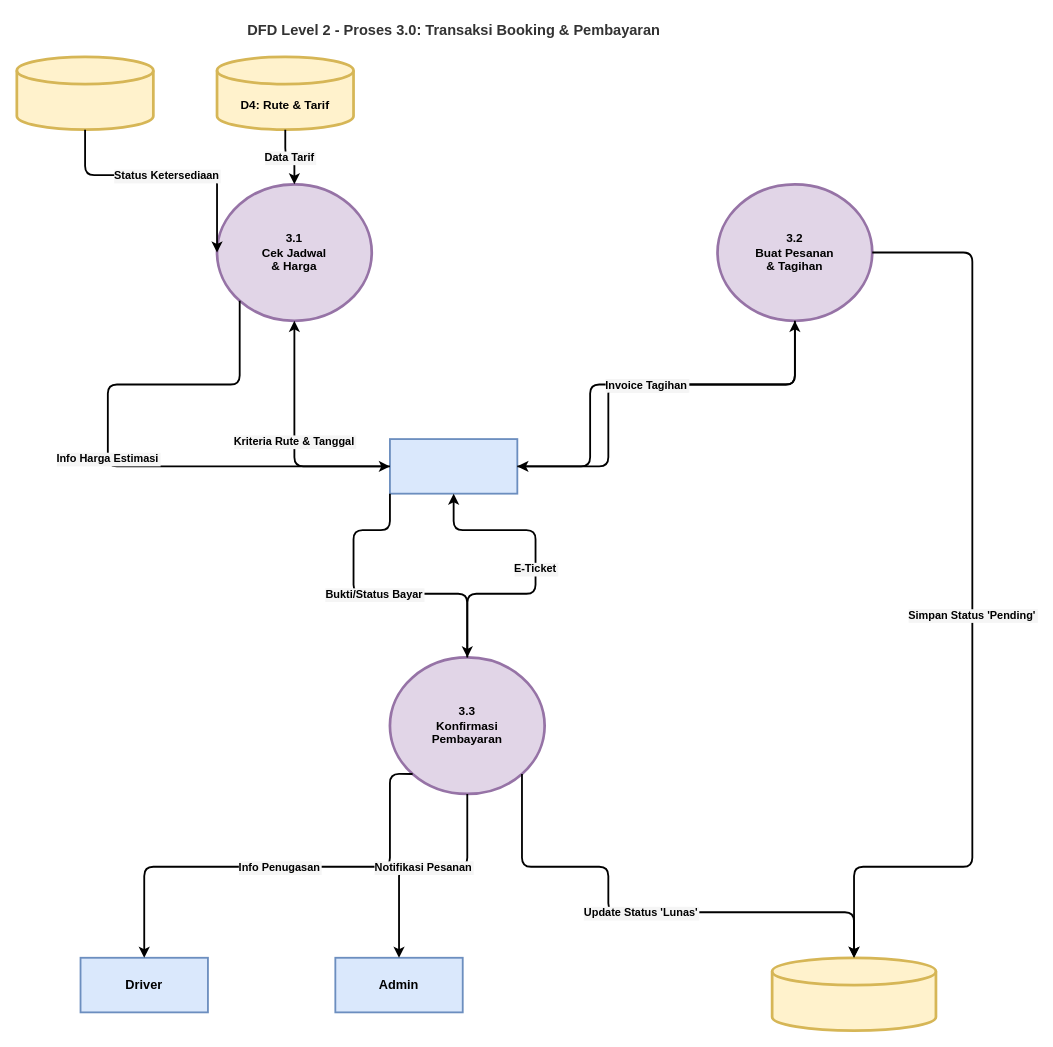
This 1053x1047 diagram has some shape labels left out. Each missing label, with the centre of its shape:
Customer: point 453,466
D2: Armada Bus: point 84,93
D5: Transaksi Booking: point 853,993
